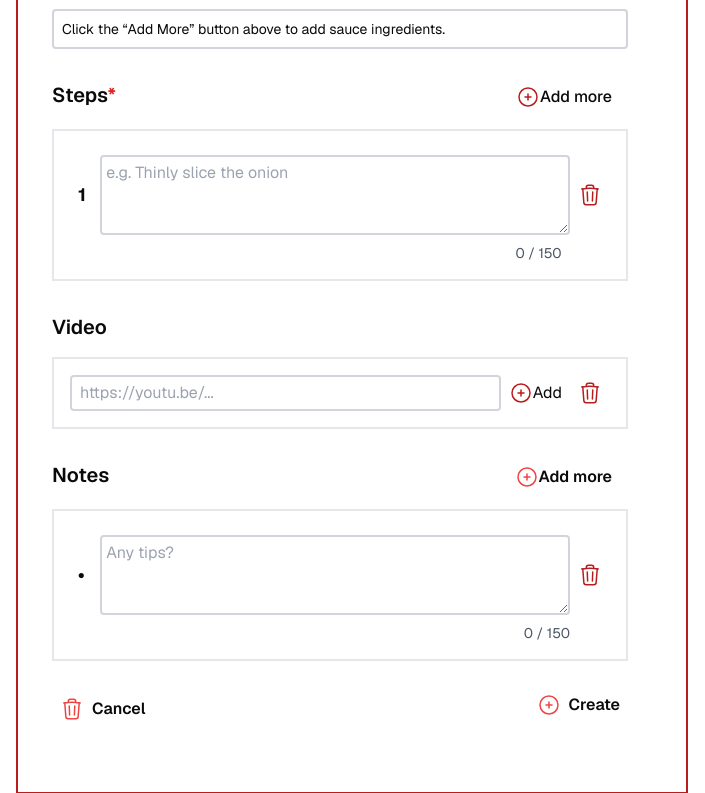
Test: RecipeForm › Should display the error message after incorrect input is added "add" button is clicked in video section
(page scrolled)
In the field with placeholder "https://youtu.be/...": (285, 393) [70, 375, 501, 411], type "https://wrong-video-url"
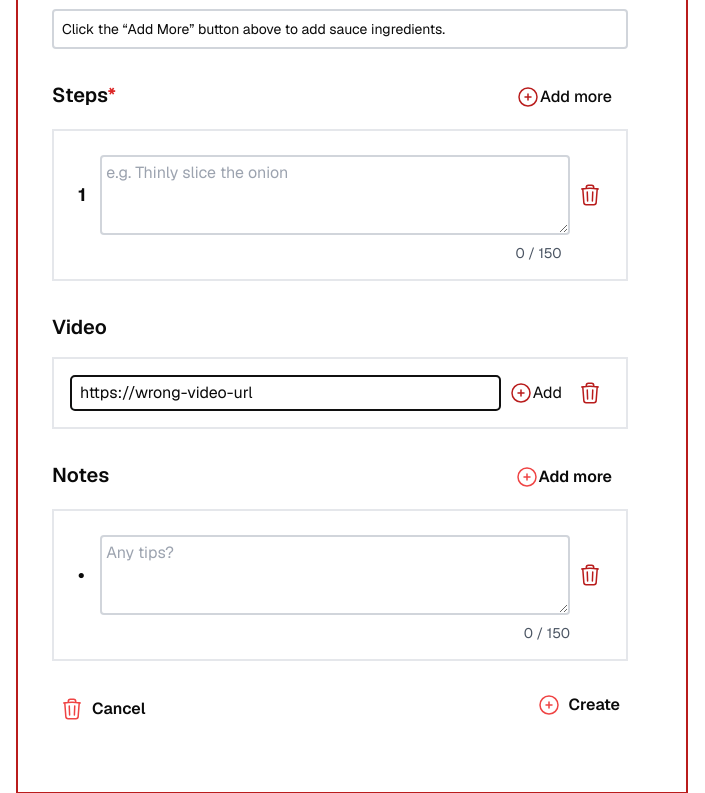
Click the button with aria-label "add video thumbnail button": (535, 393) [501, 377, 570, 409]
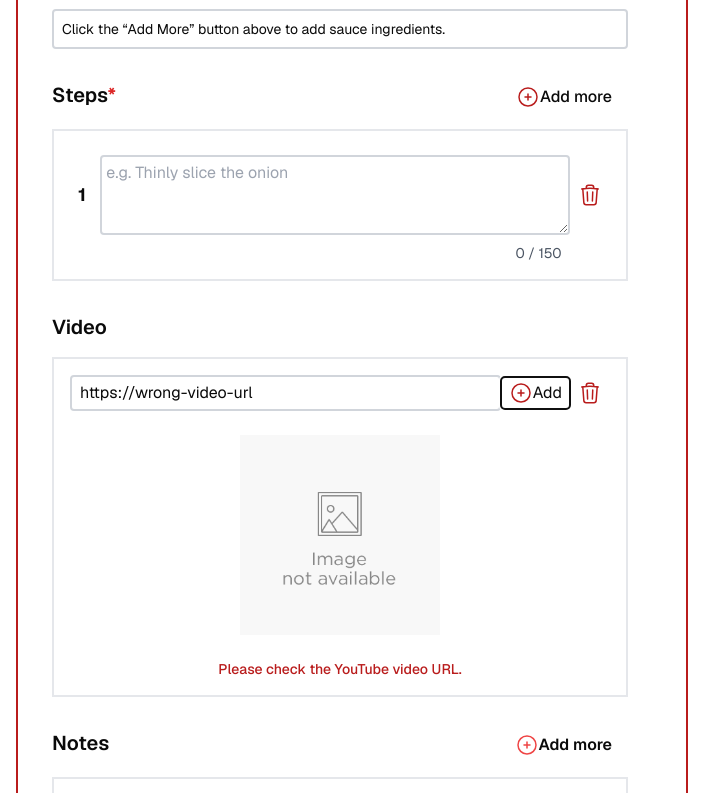
Expected: the picture with alt text "fallbackThumbnailImg" is shown, [240, 435, 440, 635]
Expected: the text "Please check the YouTube video URL." is shown, [218, 659, 462, 679]
